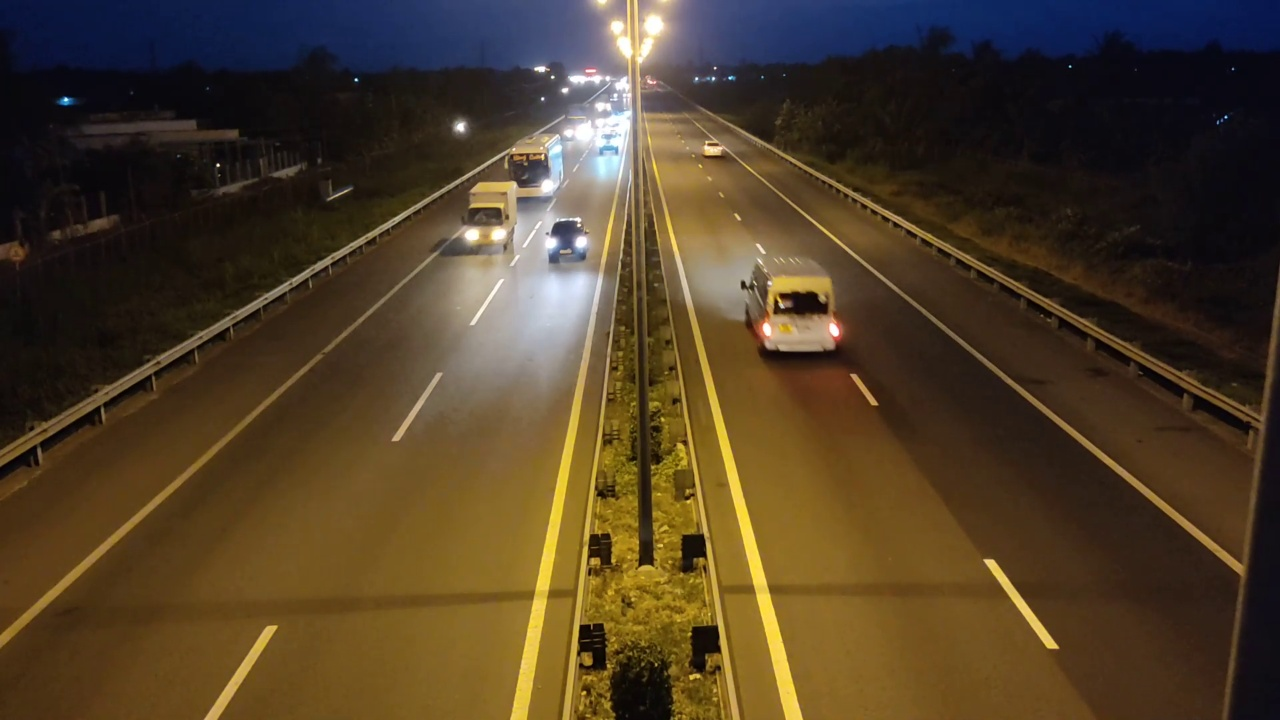bus: (507, 132, 565, 199)
car: (739, 252, 845, 355), (545, 217, 591, 263), (701, 139, 727, 157)
truck: (456, 175, 520, 254)
